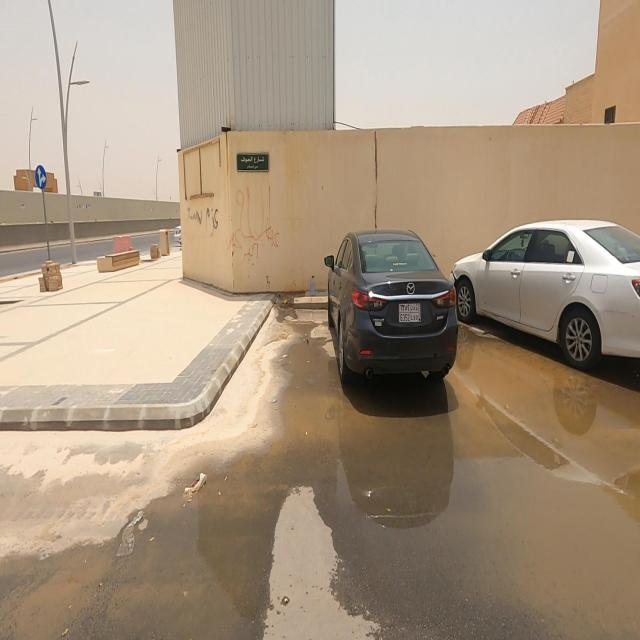Graffiti: (227, 188, 281, 260), (187, 204, 221, 238)
